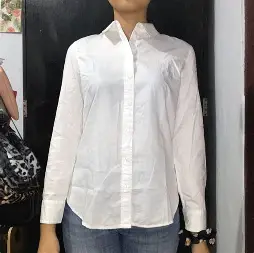celana_salah: (66, 223, 178, 253)
kemeja_benar: (70, 24, 202, 223)
